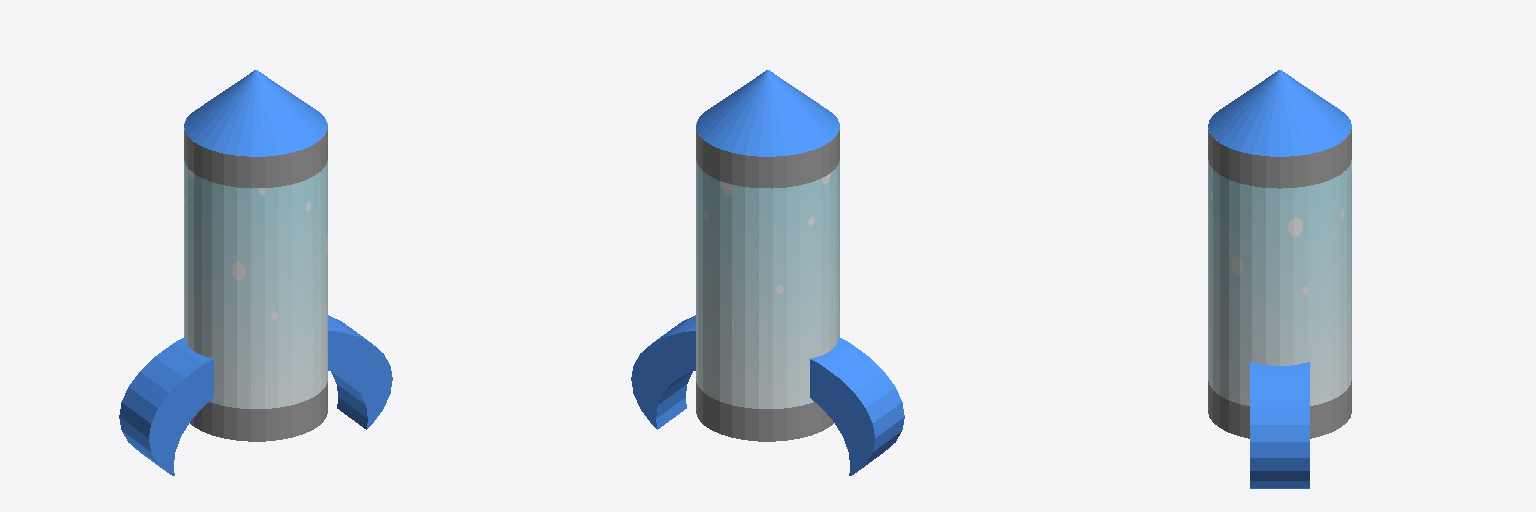
The picture shows the model from 3 angles: view 1: azimuth 30°, elevation 25°; view 2: azimuth 150°, elevation 25°; view 3: azimuth 270°, elevation 25°; orthographic projection.
Parts seen in each view (by area): view 1: 円柱.001; view 2: 円柱.001; view 3: 円柱.001.
Part boxes in pixels (bbox=[...]): 円柱.001: bbox=[119, 70, 392, 475]; 円柱.001: bbox=[631, 70, 904, 475]; 円柱.001: bbox=[1208, 70, 1351, 488].
Bounding box in the file's own units: 22.27 × 32.53 × 11.39.
1 materials, 1 textured.